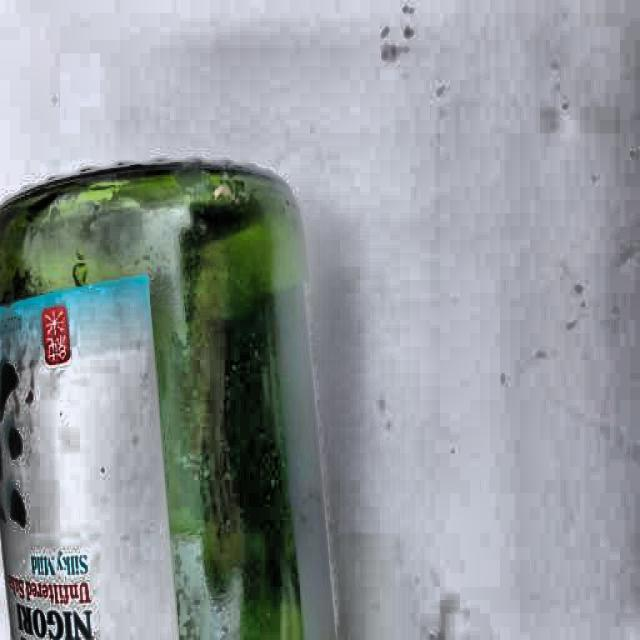glass: (0, 149, 345, 640)
